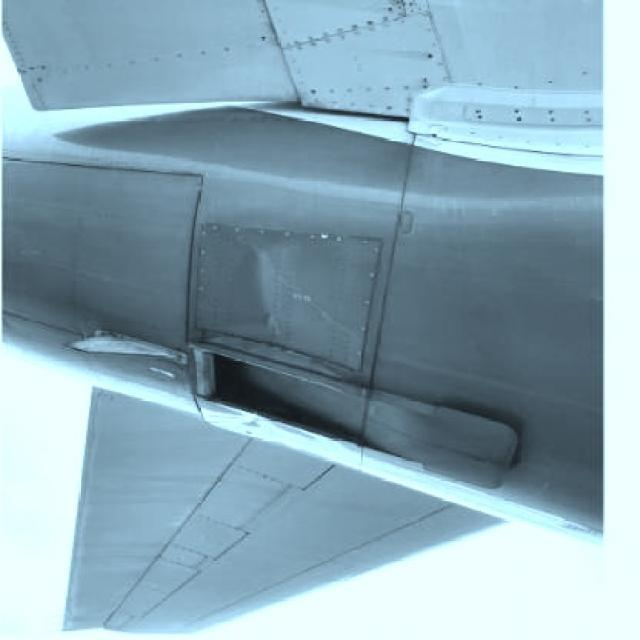dent: (223, 243, 277, 323)
